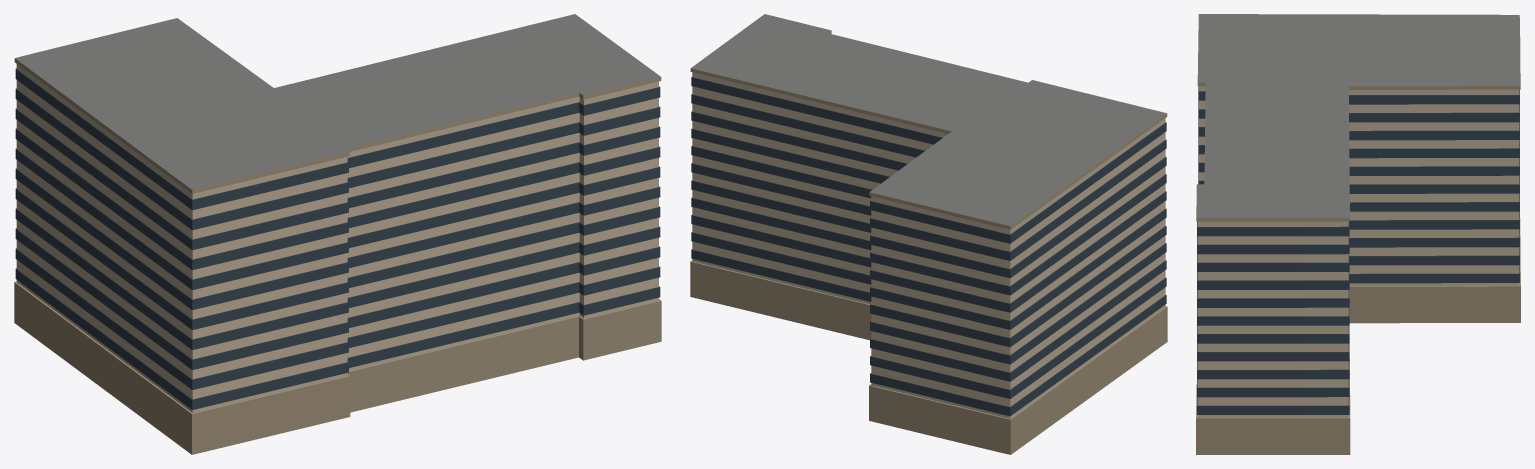
Rendered from canyon_road_towers.glb.
3 views of the same model, side by side, from view 1: azimuth 30°, elevation 25°; view 2: azimuth 150°, elevation 25°; view 3: azimuth 270°, elevation 25° (orthographic). The views are drawn at different scales.
Parts seen in each view (by area): view 1: Canyon_Road_Towers; view 2: Canyon_Road_Towers; view 3: Canyon_Road_Towers.
Boxes of the visible parts, left/top/right/bottom form: Canyon_Road_Towers: left=14, top=14, right=661, bottom=454; Canyon_Road_Towers: left=690, top=14, right=1167, bottom=454; Canyon_Road_Towers: left=1196, top=14, right=1520, bottom=454.
Size of the model in its own units: 72.01 by 38.9 by 48.38.
